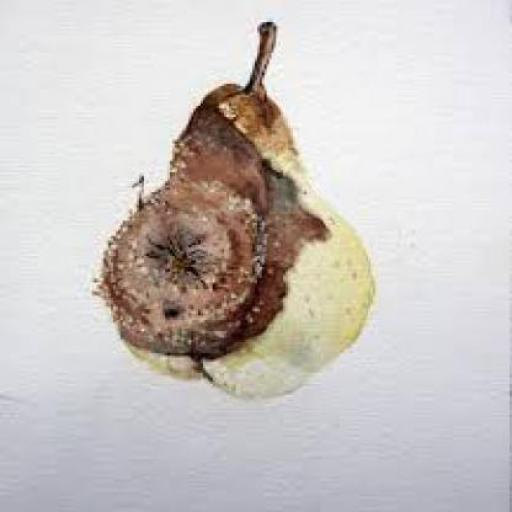biodegradable: (99, 20, 377, 400)
